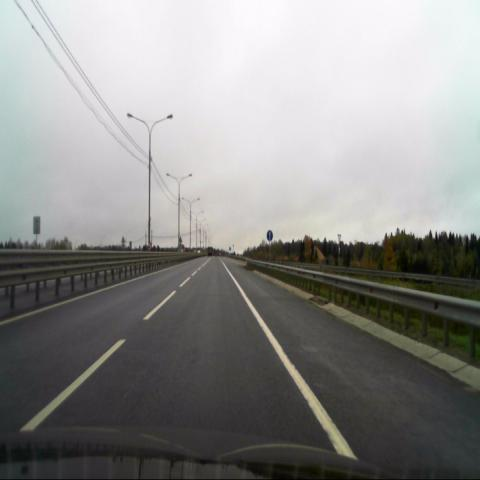4_1_1: (267, 229, 273, 241)
